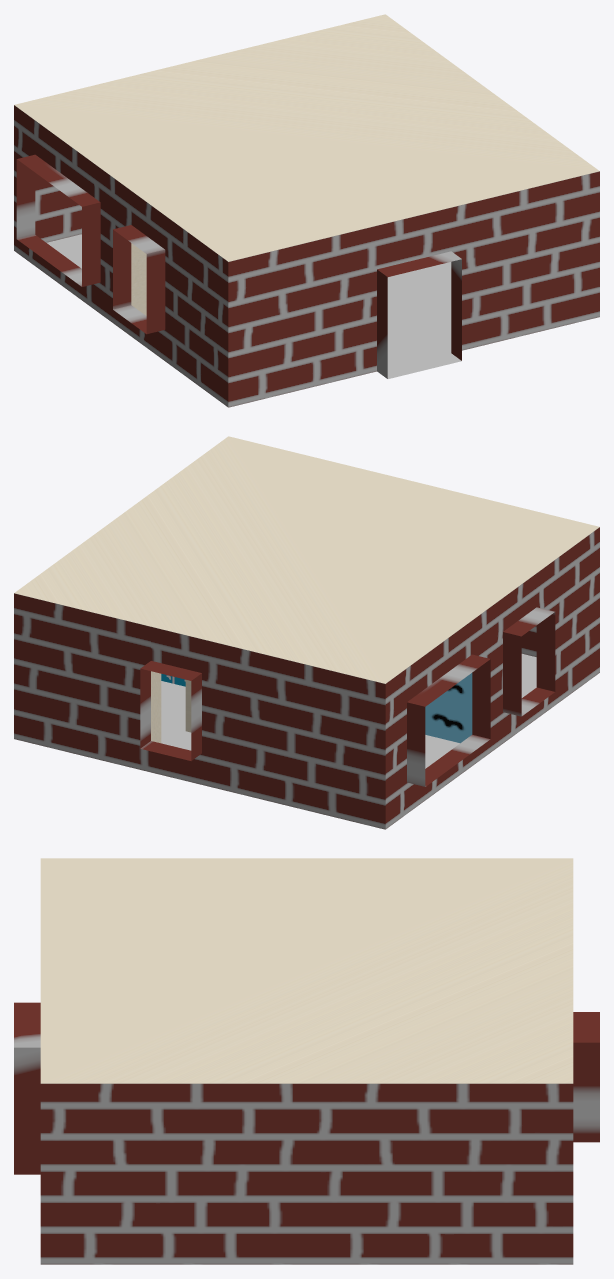
The model's file is Apartment.fbx.
3 renders of one model, top to bottom at view 1: azimuth 30°, elevation 25°; view 2: azimuth 150°, elevation 25°; view 3: azimuth 270°, elevation 25°, orthographic. The views are drawn at different scales.
Parts seen in each view (by area): view 1: wallsOuter, ceiling, floor, wallsInner; view 2: wallsOuter, ceiling, wallsInner, floor; view 3: ceiling, wallsOuter.
Part boxes in pixels (x1=…): wallsOuter: x1=14, y1=105, x2=599, y2=407; ceiling: x1=14, y1=14, x2=599, y2=261; floor: x1=46, y1=234, x2=461, y2=378; wallsInner: x1=131, y1=243, x2=146, y2=315; wallsOuter: x1=14, y1=527, x2=599, y2=829; ceiling: x1=14, y1=436, x2=599, y2=683; wallsInner: x1=151, y1=671, x2=472, y2=743; floor: x1=161, y1=653, x2=536, y2=768; ceiling: x1=40, y1=858, x2=573, y2=1083; wallsOuter: x1=14, y1=1002, x2=599, y2=1264.
Bounding box in the file's own units: 420 × 150 × 440.
